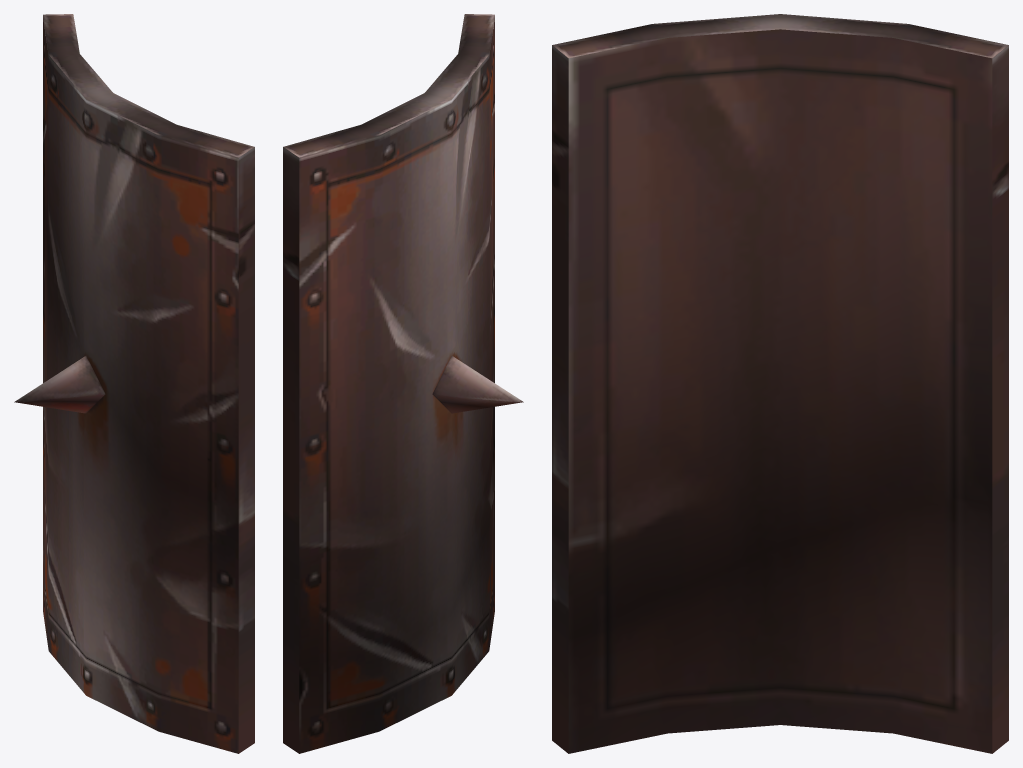
File: shield20_b3ad59fe.glb
3 renders of one model, left to right at view 1: azimuth 30°, elevation 25°; view 2: azimuth 150°, elevation 25°; view 3: azimuth 270°, elevation 25°, orthographic. The views are drawn at different scales.
Size of the model in its own units: 0.4345 by 1.65 by 0.9812.
1 material, 1 textured.
